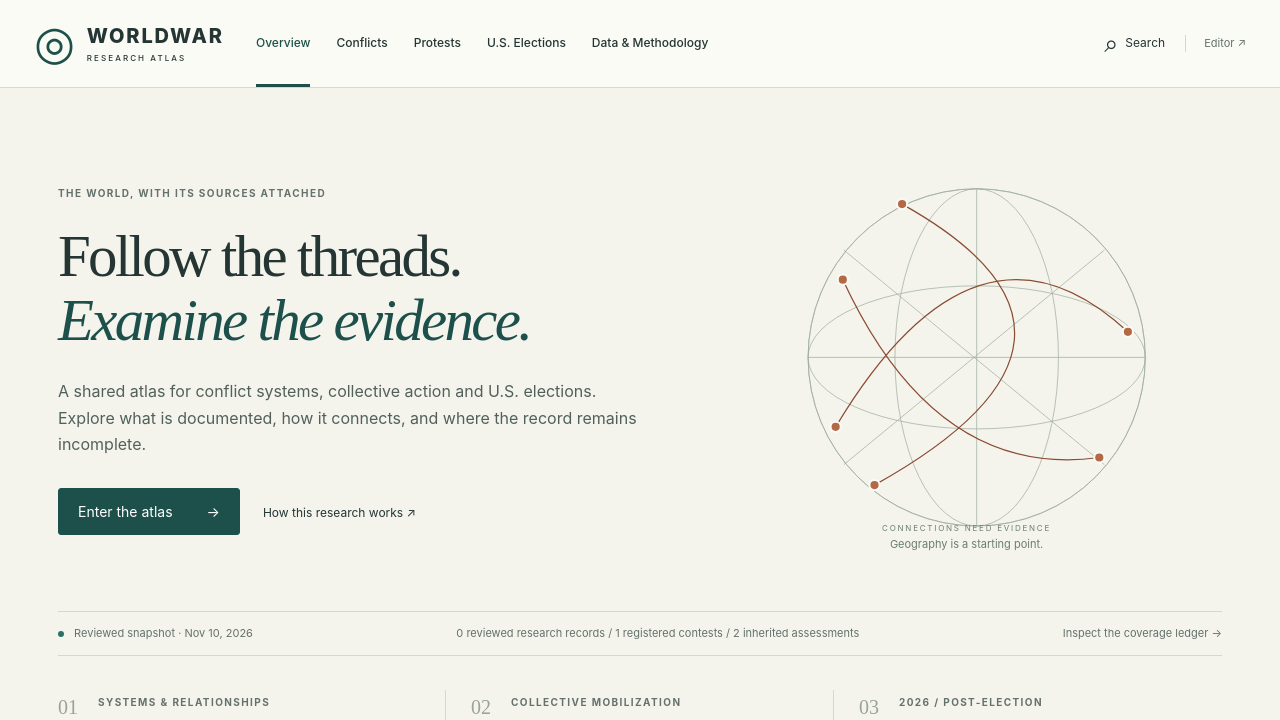
Scenario: full public archive discovery › searches beyond the bundled snapshot without inventing evidence status
Expected: the heading "Follow the threads.Examine the evidence." is shown, [58,224,530,353]
Click the button "⌕ Search" at (1135, 44), box [1100,23,1169,64]
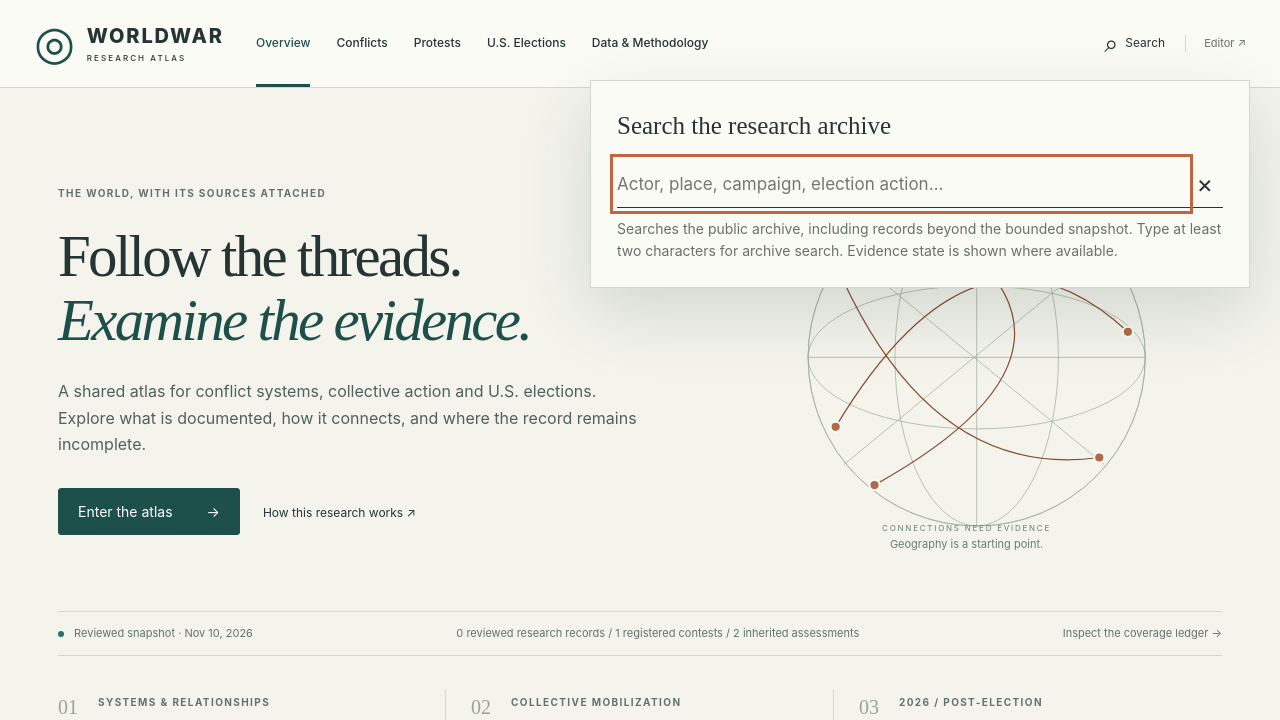
Type "archive" into the search field labelled "Search the research archive" at (902, 184), box [617,161,1186,207]
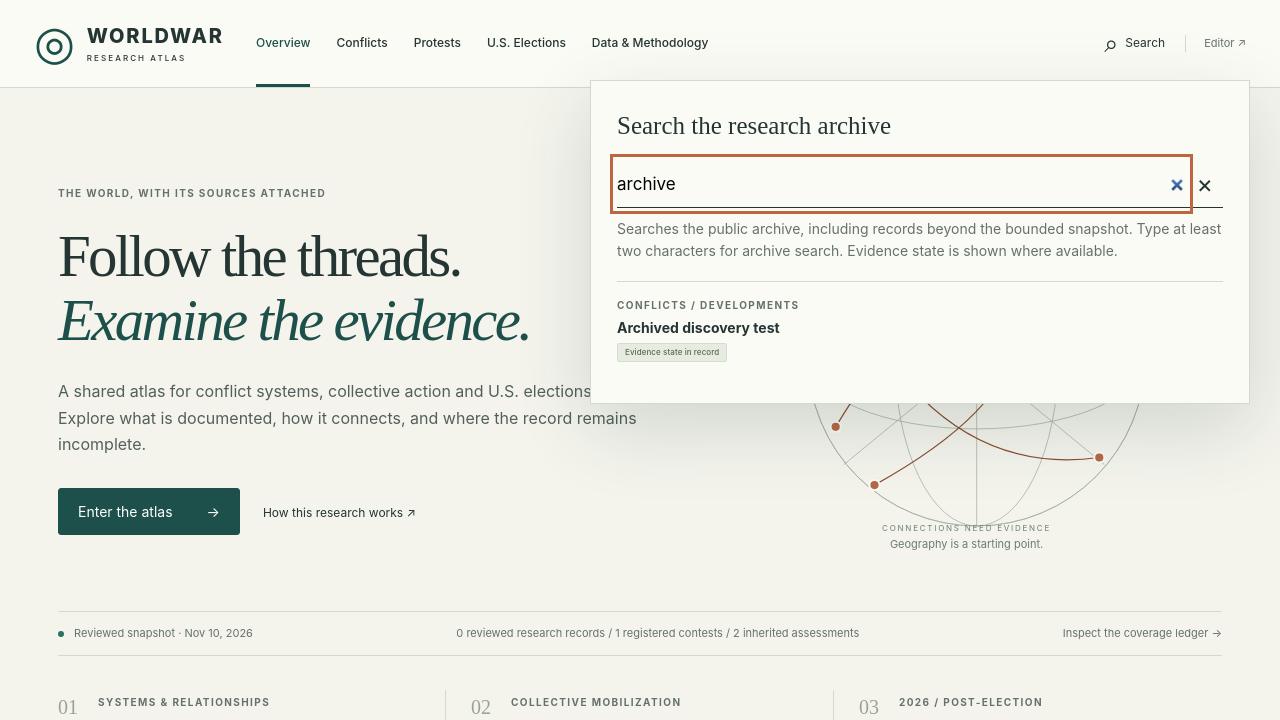
Expected: the link "Archived discovery test" does not show "reviewed", [617,282,1223,377]
Expected: the link "Archived discovery test" shows "Evidence state in record", [617,282,1223,377]
